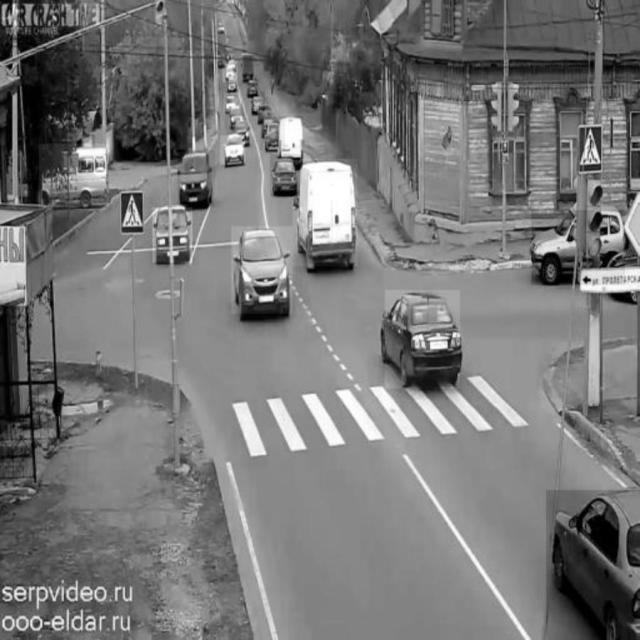vehicle: (546, 490, 639, 640), (385, 290, 459, 388), (532, 210, 625, 286), (293, 160, 357, 268), (231, 226, 292, 314), (39, 144, 109, 210), (153, 208, 193, 263), (178, 151, 215, 208), (270, 154, 300, 196), (260, 116, 285, 150), (220, 135, 245, 165), (225, 93, 242, 115), (251, 92, 265, 117), (222, 62, 237, 82)
